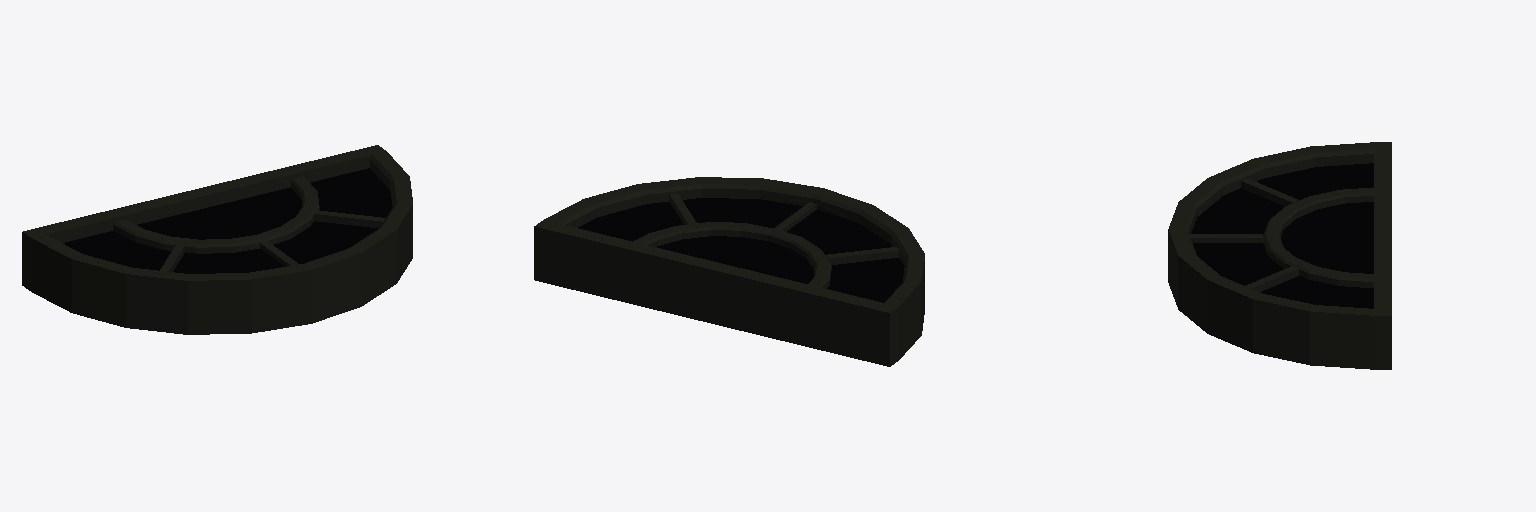
File: Window_03bis.obj
3 views of the same model, side by side, from view 1: azimuth 30°, elevation 25°; view 2: azimuth 150°, elevation 25°; view 3: azimuth 270°, elevation 25° (orthographic).
Visible parts, largest first — view 1: Window_03:pCylinder23; view 2: Window_03:pCylinder23; view 3: Window_03:pCylinder23.
Boxes of the visible parts, x1=… form: Window_03:pCylinder23: x1=22, y1=145, x2=412, y2=334; Window_03:pCylinder23: x1=534, y1=177, x2=924, y2=366; Window_03:pCylinder23: x1=1168, y1=142, x2=1391, y2=369.
Bounding box in the file's own units: 3.08 × 0.4476 × 1.68.